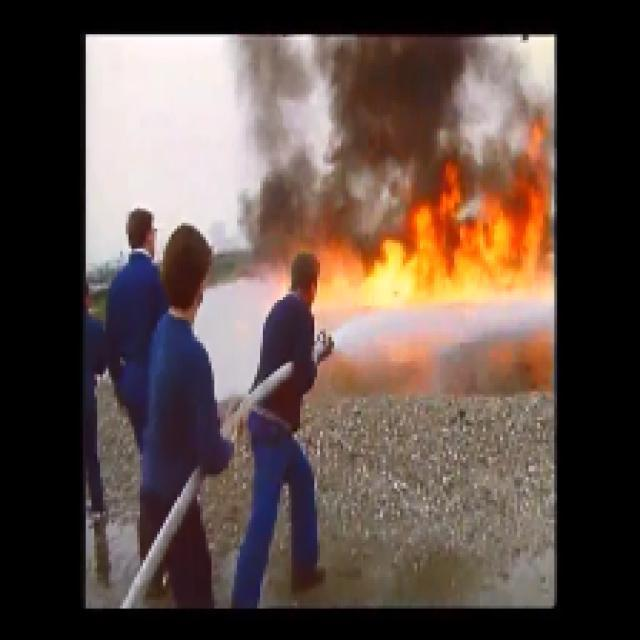Fire: (308, 220, 544, 296)
Smoke: (328, 38, 466, 168), (238, 38, 304, 244), (324, 175, 406, 212)
